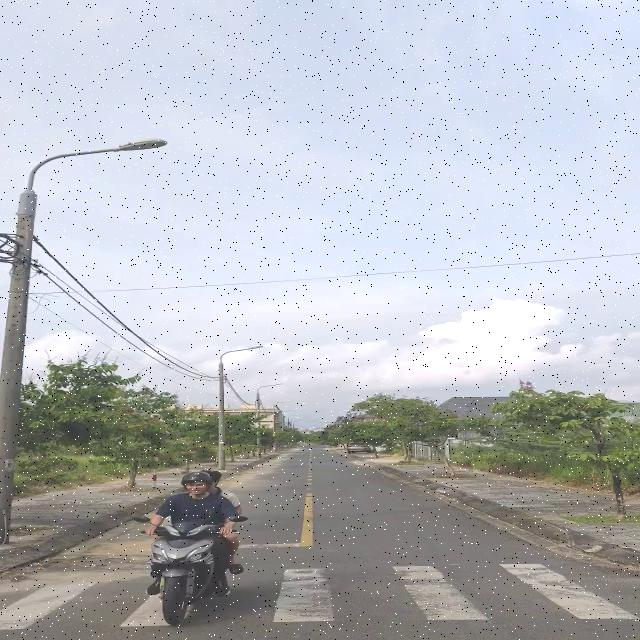helmet: (181, 471, 214, 502)
